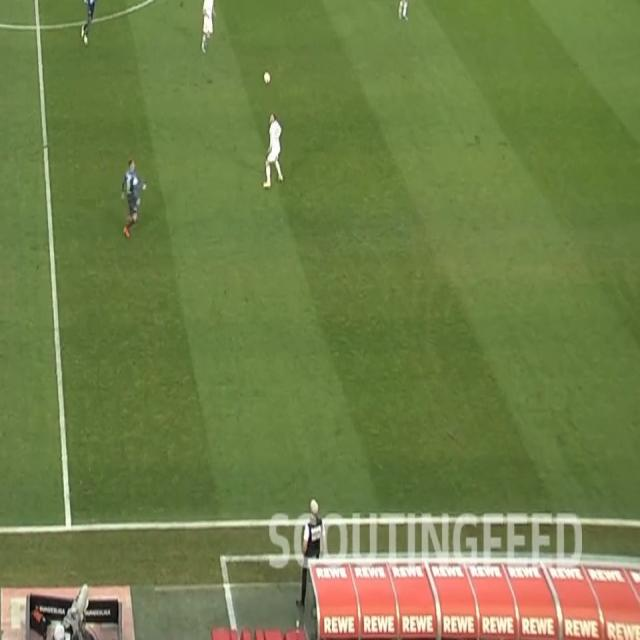ball: (263, 70, 272, 86)
